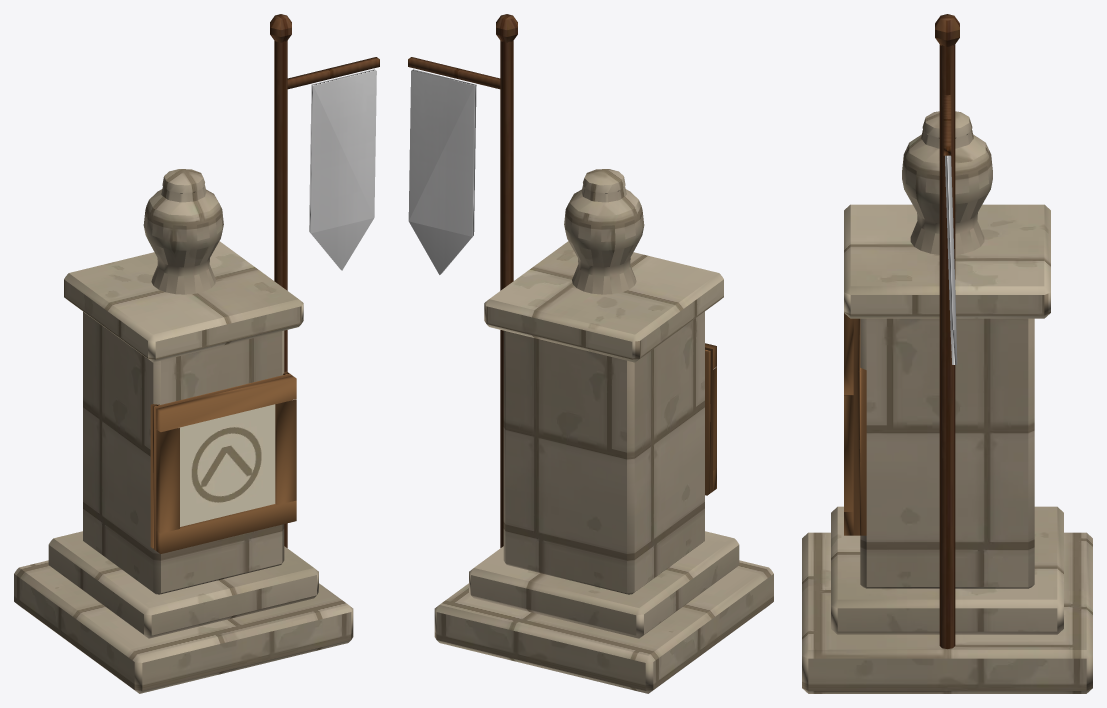
File: monument.glb
3 views of the same model, side by side, from view 1: azimuth 30°, elevation 25°; view 2: azimuth 150°, elevation 25°; view 3: azimuth 270°, elevation 25° (orthographic). The views are drawn at different scales.
Visible parts, largest first — view 1: prop.monument.mesh, logo, banner; view 2: prop.monument.mesh, banner, logo; view 3: prop.monument.mesh, logo, banner.
Boxes of the visible parts, x1,y1,x2,y2 form: prop.monument.mesh: (14, 14, 379, 693); logo: (150, 371, 296, 553); banner: (309, 69, 376, 270); prop.monument.mesh: (408, 14, 773, 693); banner: (408, 69, 476, 274); logo: (705, 343, 716, 495); prop.monument.mesh: (802, 14, 1092, 693); logo: (844, 313, 866, 535); banner: (945, 155, 957, 364).
Size of the model in its own units: 1.25 by 2.3 by 0.9.
Materials: 5 (4 with a texture image).
